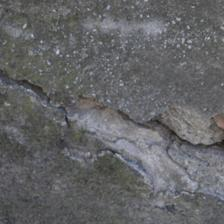Crack: (4, 61, 63, 162), (39, 93, 89, 201)
